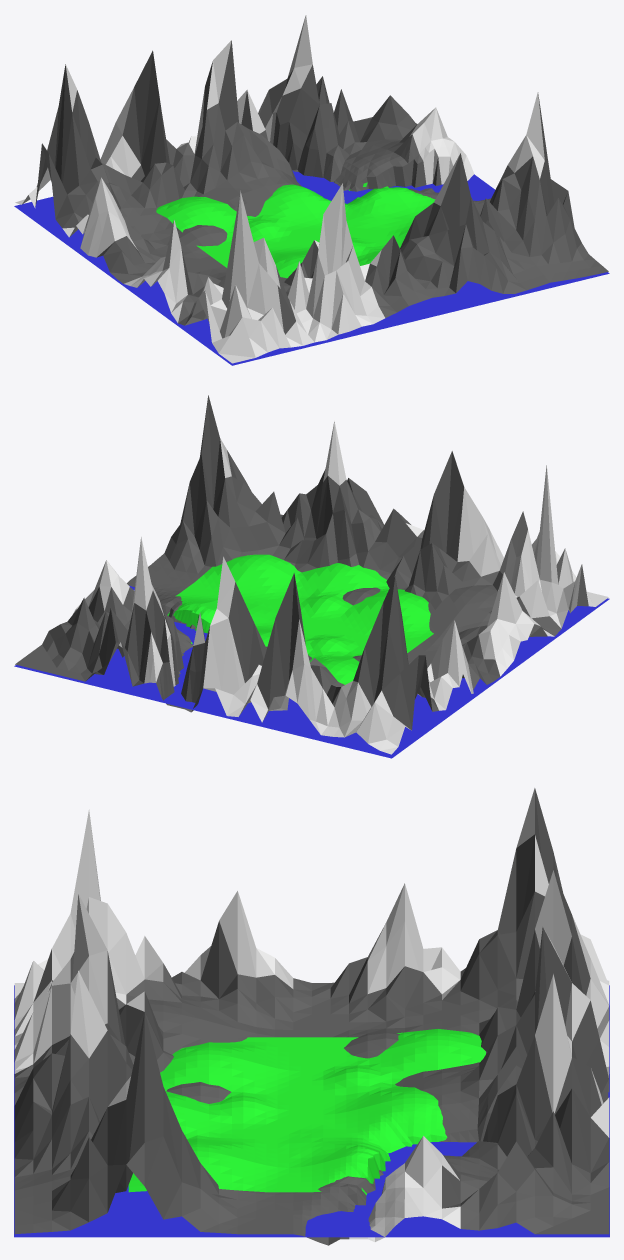
Rendered from TheRealField.fbx.
The picture shows the model from 3 angles, top to bottom: view 1: azimuth 30°, elevation 25°; view 2: azimuth 150°, elevation 25°; view 3: azimuth 270°, elevation 25°; orthographic projection. The views are drawn at different scales.
Parts seen in each view (by area): view 1: Mountains, Field, Water; view 2: Mountains, Field, Water; view 3: Mountains, Field, Water.
Boxes of the visible parts, bbox=[...] form: Mountains: bbox=[15, 15, 608, 363]; Field: bbox=[156, 182, 435, 278]; Water: bbox=[14, 170, 609, 365]; Mountains: bbox=[15, 395, 608, 754]; Field: bbox=[167, 554, 433, 684]; Water: bbox=[14, 585, 609, 758]; Mountains: bbox=[14, 788, 609, 1245]; Field: bbox=[128, 1029, 485, 1195]; Water: bbox=[14, 985, 609, 1237].
Size of the model in its own units: 39400 by 15911 by 38674.
